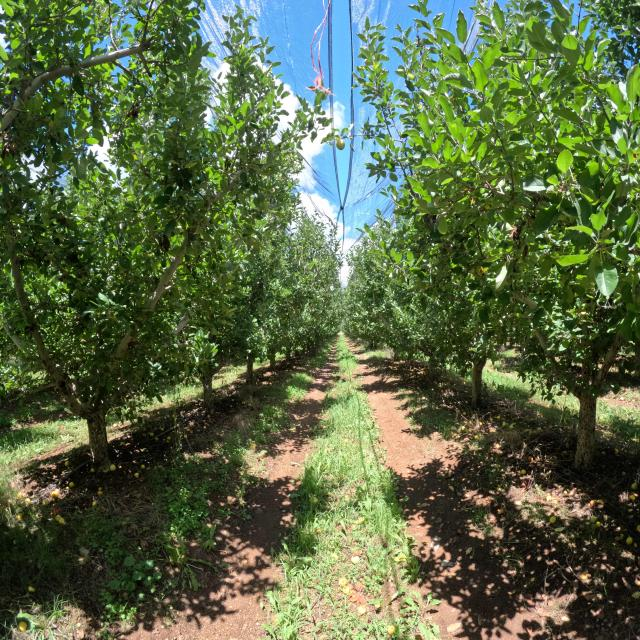-FireBlight-: (0, 129, 21, 159), (507, 222, 524, 240), (590, 304, 605, 324), (128, 103, 141, 118), (527, 215, 535, 228)
